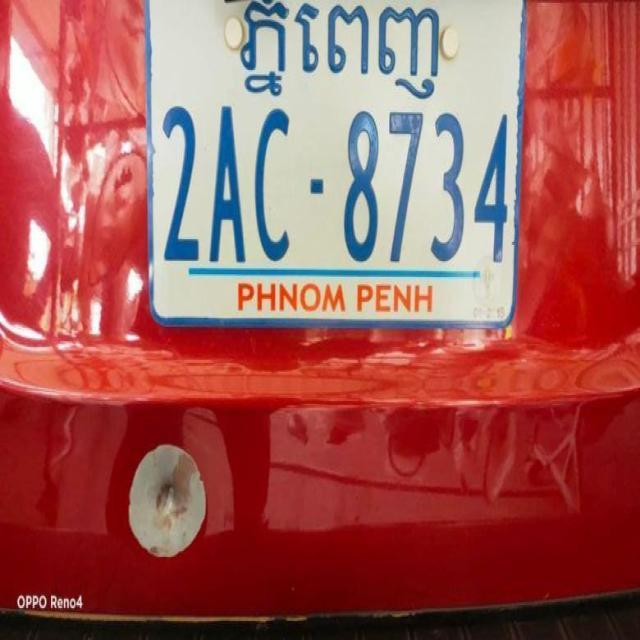Phnom_Penh: (239, 0, 440, 97)
